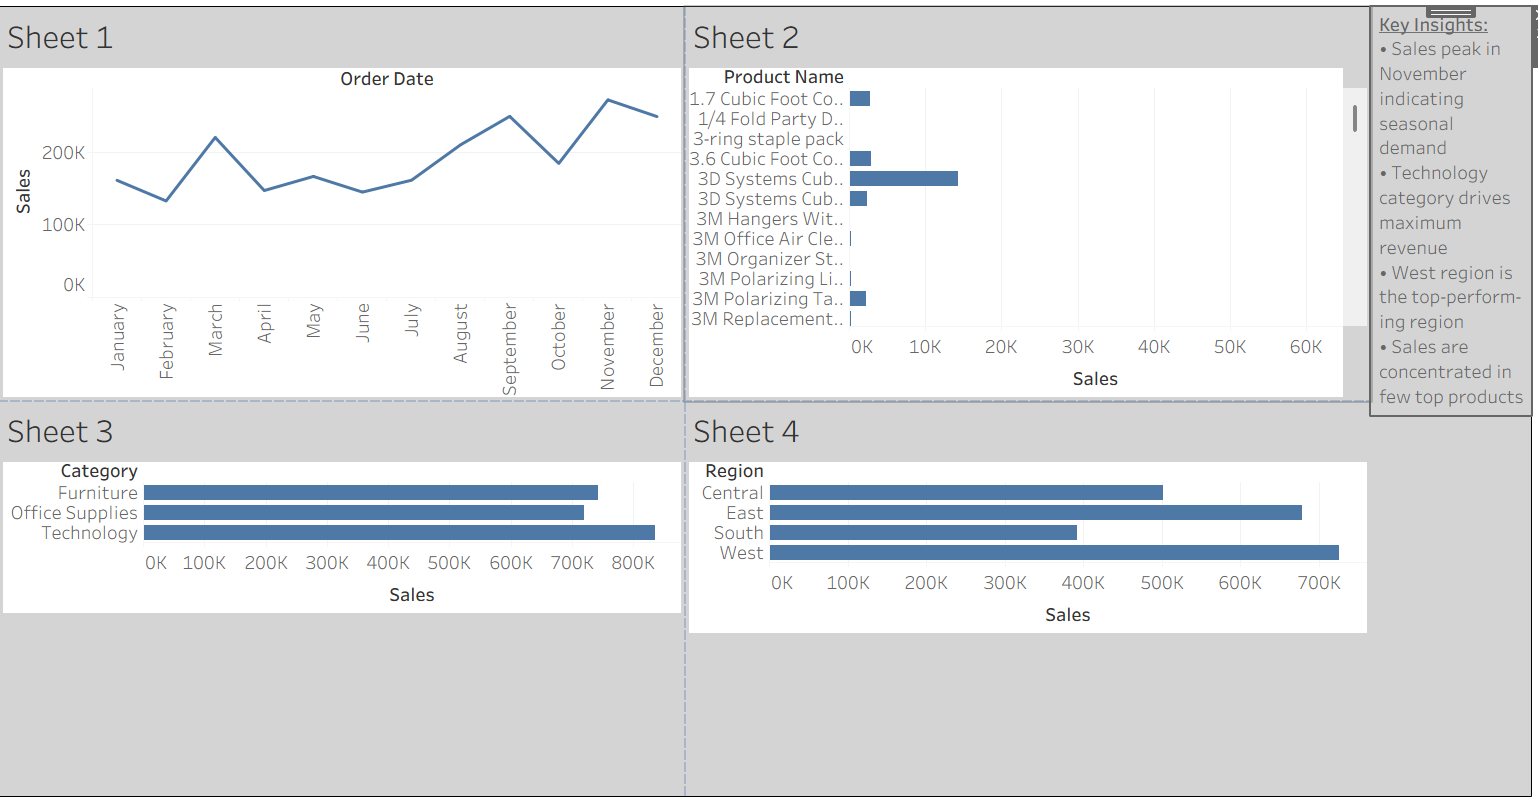

What the dashboard file says about the page in this screenshot:
{"tool":"tableau","page":{"name":"Dashboard 1","canvas":[1000,1000],"units":"permille","ordinal":0},"visuals":[{"type":"worksheet","title":"Sheet 1","mark":"Automatic","rows":["Sales"],"cols":["Order Date"],"box":[5.8,11.2,442.6,488.8]},{"type":"worksheet","title":"Sheet 2","mark":"Automatic","rows":["Product Name"],"cols":["Sales"],"box":[448.4,11.2,442.6,488.8]},{"type":"text","box":[891,11.2,103.2,505.6]},{"type":"worksheet","title":"Sheet 3","mark":"Automatic","rows":["Category"],"cols":["Sales"],"box":[5.8,500,442.6,488.9]},{"type":"worksheet","title":"Sheet 4","mark":"Automatic","rows":["Region"],"cols":["Sales"],"box":[448.4,500,442.6,488.9]}]}

Visuals, with their boxes on the dashboard's canvas, which has no fixed pixel size, in thousandths of its width and height (x1, y1, x2, y2). These are canvas units, not pixel positions in the 1538x798 screenshot, which may show the page scaled, cropped or inside an application window:
"Sheet 1" worksheet: locate(6, 11, 448, 500)
"Sheet 2" worksheet: locate(448, 11, 891, 500)
text: locate(891, 11, 994, 517)
"Sheet 3" worksheet: locate(6, 500, 448, 989)
"Sheet 4" worksheet: locate(448, 500, 891, 989)
